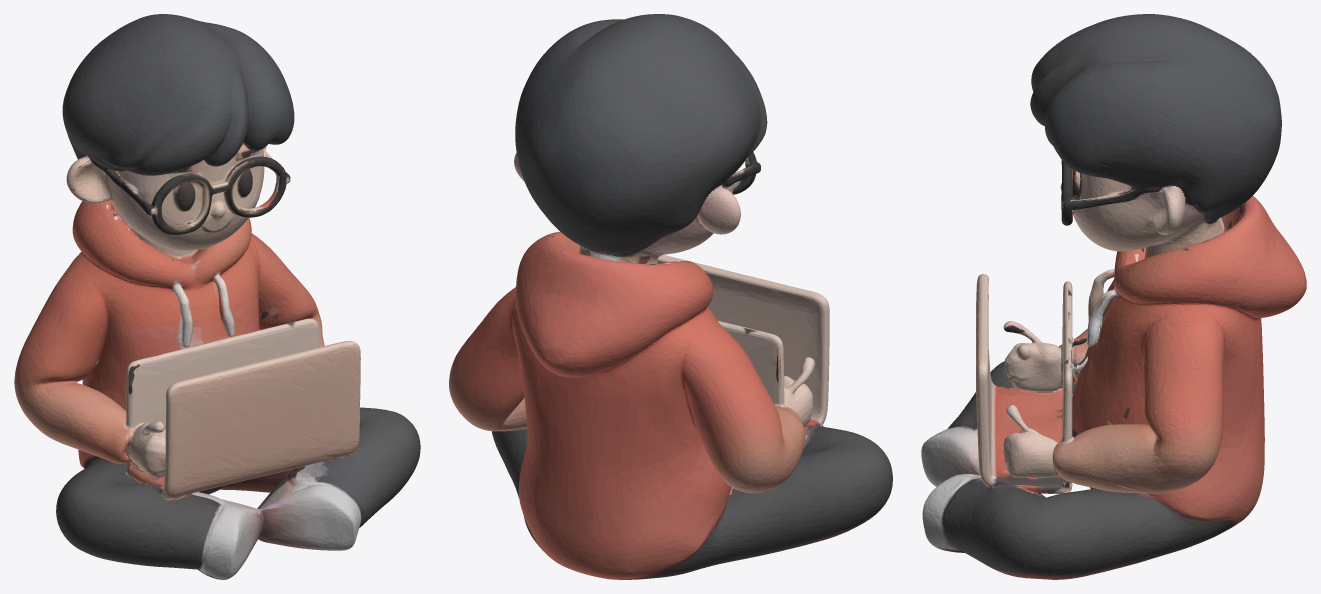
The model's file is 3e69b859-24c7-43f9-8f43-3ade20ef6206.glb.
The picture shows the model from 3 angles, left to right: view 1: azimuth 30°, elevation 25°; view 2: azimuth 150°, elevation 25°; view 3: azimuth 270°, elevation 25°; orthographic projection. The views are drawn at different scales.
Parts seen in each view (by area): view 1: world; view 2: world; view 3: world.
Part boxes in pixels (<box>): world: <box>14,14,420,579</box>; world: <box>449,14,892,579</box>; world: <box>921,14,1306,579</box>.
Size of the model in its own units: 1.54 by 1.99 by 1.4.
1 material, 1 textured.
